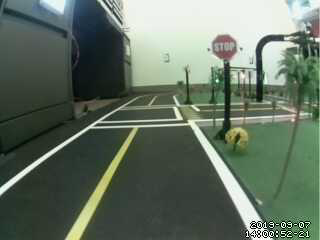Stop_Sign: (211, 31, 242, 64)
